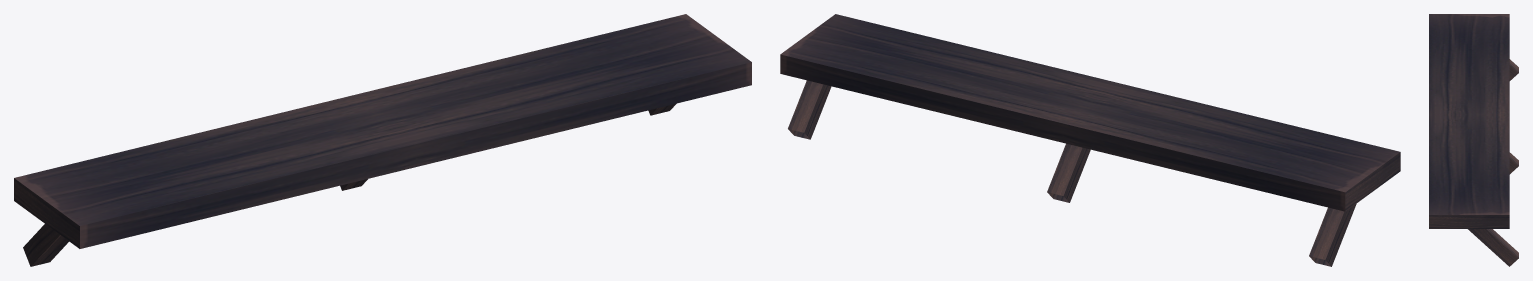
File: Shelf_F.fbx
3 renders of one model, left to right at view 1: azimuth 30°, elevation 25°; view 2: azimuth 150°, elevation 25°; view 3: azimuth 270°, elevation 25°, orthographic. The views are drawn at different scales.
Parts seen in each view (by area): view 1: Shelf_F; view 2: Shelf_F; view 3: Shelf_F.
Boxes of the visible parts, x1,y1,x2,y2 form: Shelf_F: [14, 14, 751, 266]; Shelf_F: [780, 14, 1400, 266]; Shelf_F: [1429, 14, 1518, 266].
Bounding box in the file's own units: 0.6266 × 0.0827 × 0.1183.
